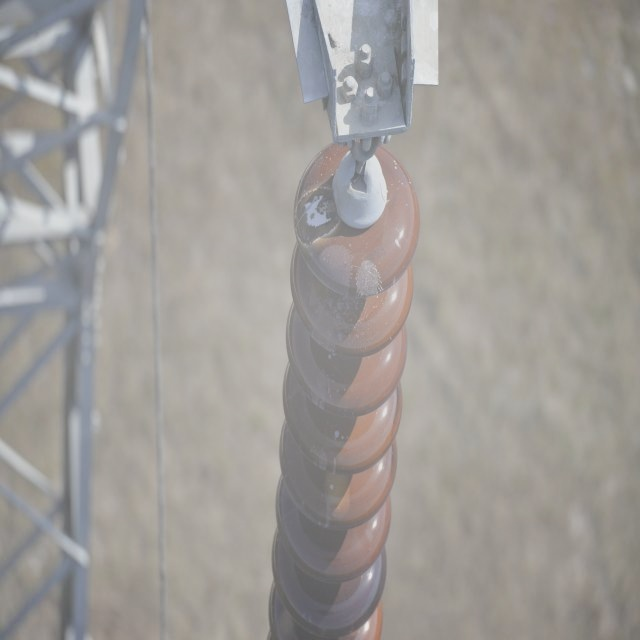insulator: (262, 138, 418, 636)
